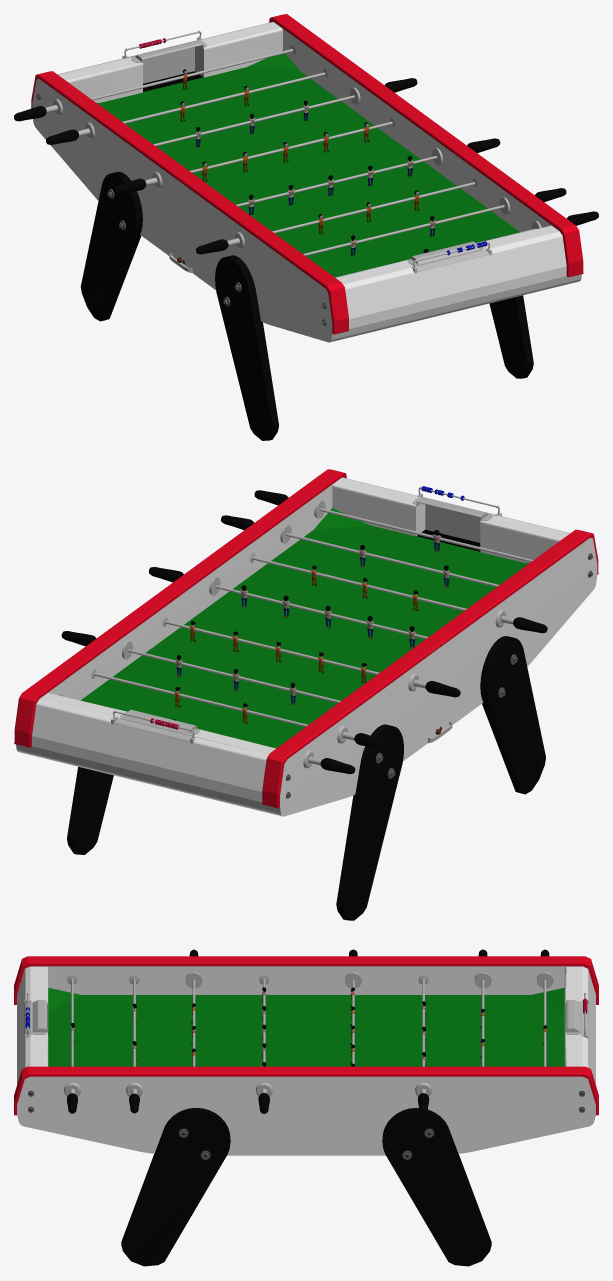
The model's file is babyfoot.fbx.
3 renders of one model, top to bottom at view 1: azimuth 30°, elevation 25°; view 2: azimuth 150°, elevation 25°; view 3: azimuth 270°, elevation 25°, orthographic. The views are drawn at different scales.
Parts seen in each view (by area): view 1: Babyfoot, Bois; view 2: Babyfoot, Bois; view 3: Babyfoot, Bois.
Boxes of the visible parts, x1,y1,x2,y2 form: Babyfoot: (14,14,598,440); Bois: (32,22,581,342); Babyfoot: (14,469,598,920); Bois: (16,477,597,816); Babyfoot: (14,949,598,1266); Bois: (17,966,595,1155).
Bounding box in the file's own units: 523 × 299 × 807.
